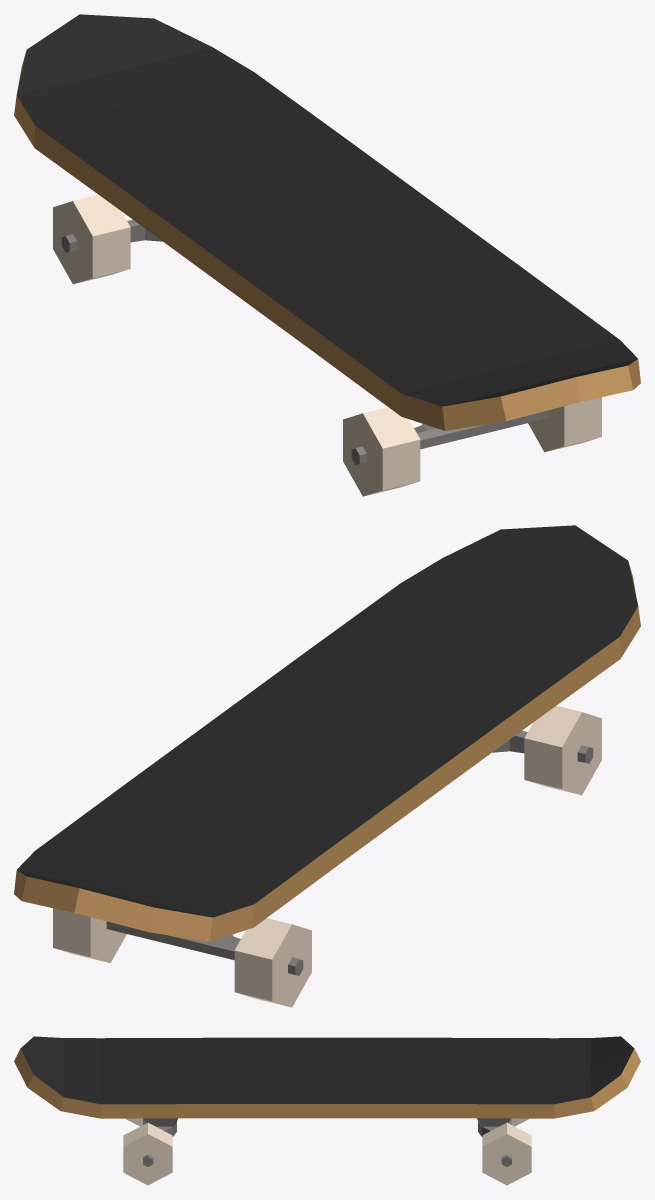
The model's file is skateboard.glb.
The picture shows the model from 3 angles, top to bottom: view 1: azimuth 30°, elevation 25°; view 2: azimuth 150°, elevation 25°; view 3: azimuth 270°, elevation 25°; orthographic projection. The views are drawn at different scales.
Visible parts, largest first — view 1: skateboard; view 2: skateboard; view 3: skateboard.
Boxes of the visible parts, box(x1,y1,x2,y2) form: skateboard: box(14, 14, 640, 496); skateboard: box(14, 525, 640, 1007); skateboard: box(14, 1036, 640, 1185).
Bounding box in the file's own units: 0.2345 × 0.1611 × 0.88.
1 material, 1 textured.
